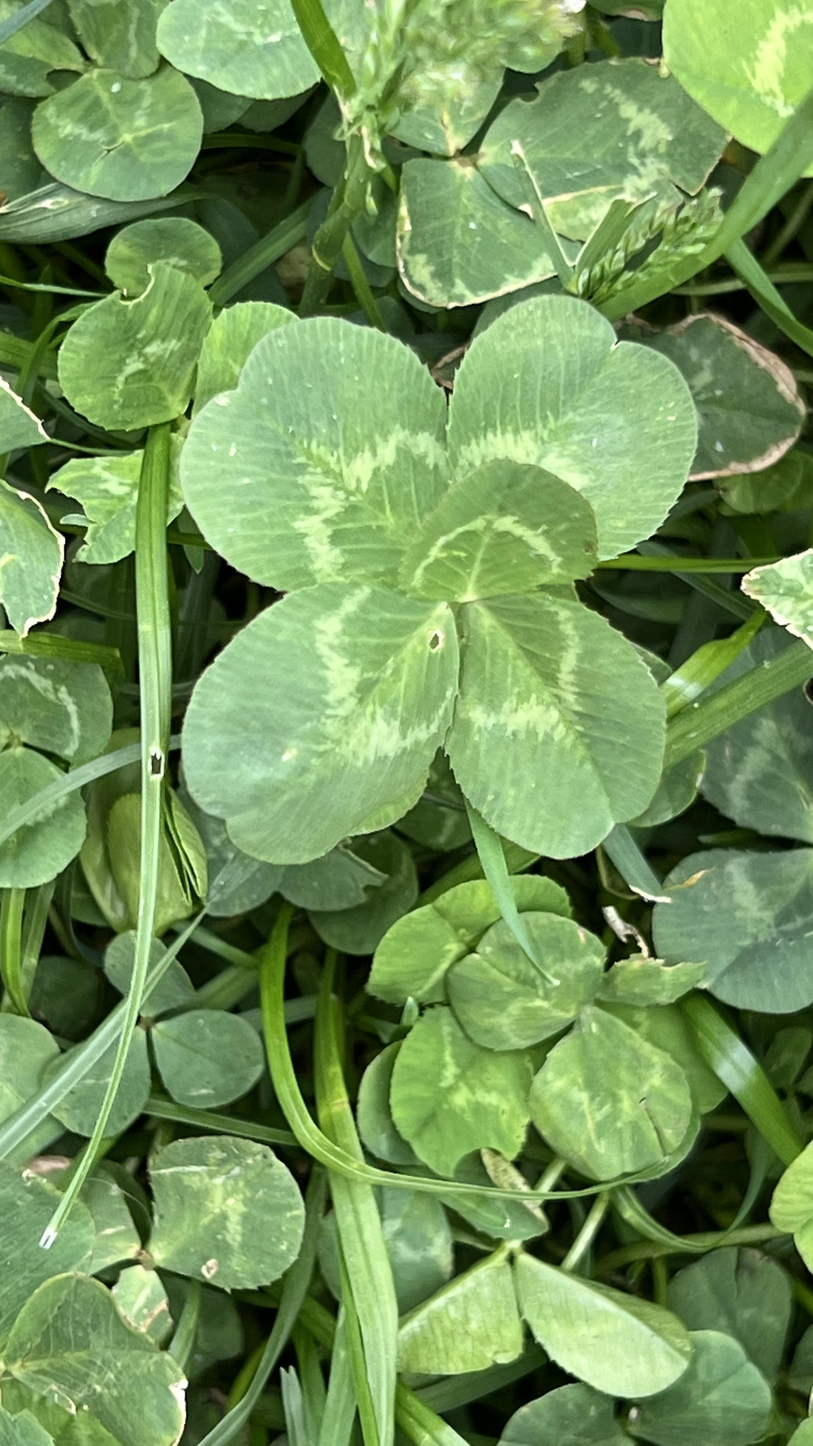5-Leaf-Clovers: (164, 198, 485, 1117)
